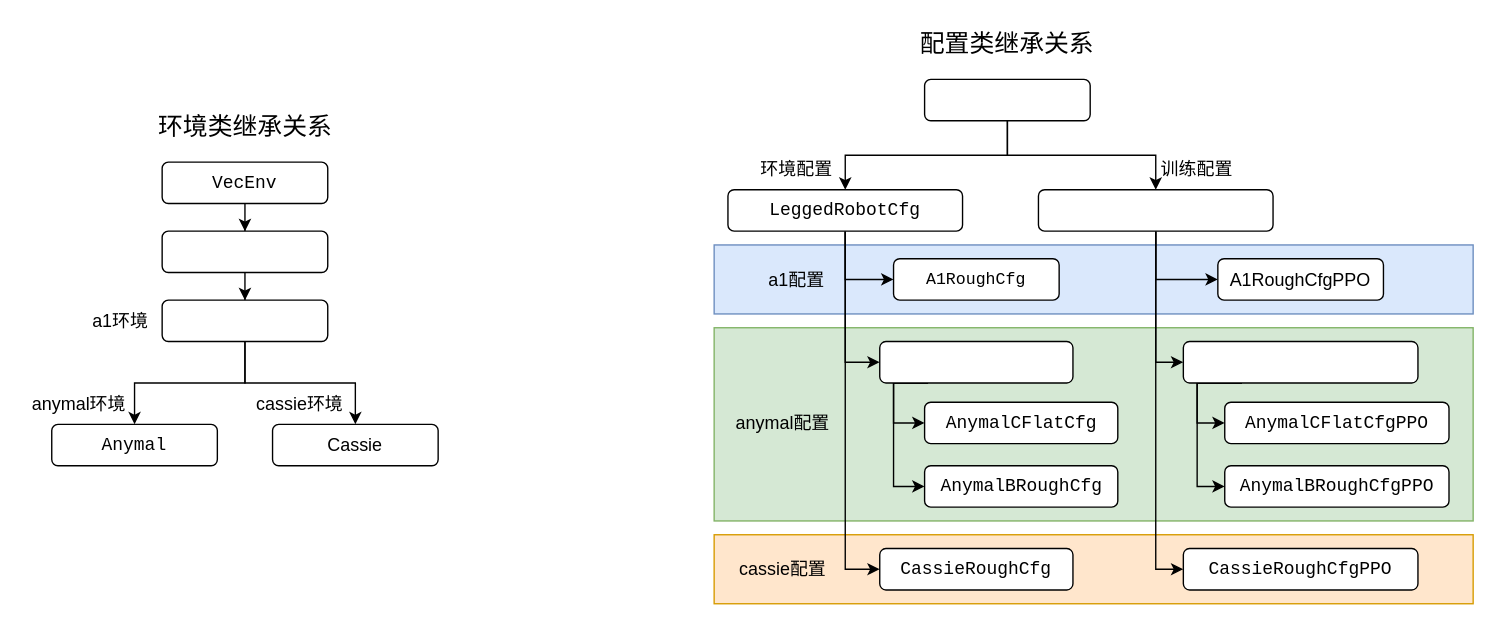
Image size: 1497x628. Some labels were removed from this diagram. Here are the shapes that lost their labels. From the top down, the centre of each, then its label:
At point 1006,99: "BaseConfig".
At point 1155,209: "LeggedRobotCfgPPO".
At point 244,251: "BaseTask".
At point 244,320: "LeggedRobot".
At point 975,361: "AnymalCRoughCfg".
At point 1300,361: "AnymalCRoughCfgPPO".
